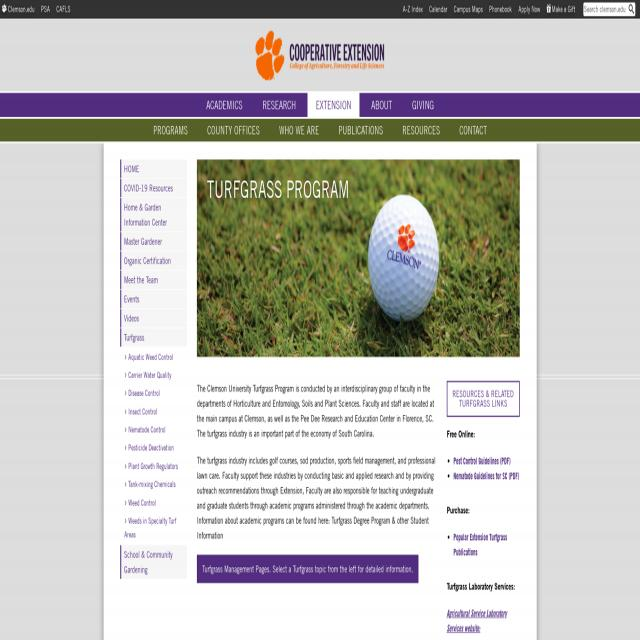button: (253, 31, 387, 80), (447, 381, 519, 417), (120, 198, 188, 231), (120, 545, 188, 578), (122, 511, 187, 542), (199, 119, 268, 141), (120, 178, 188, 198), (120, 270, 188, 290), (120, 308, 188, 328), (331, 119, 391, 141), (120, 251, 188, 270), (120, 328, 188, 347), (198, 93, 251, 117), (308, 93, 360, 117), (271, 119, 327, 141), (120, 160, 188, 178), (120, 232, 188, 250), (120, 290, 188, 308), (254, 93, 304, 117), (394, 119, 448, 141), (122, 420, 187, 438), (122, 438, 187, 456), (145, 119, 196, 141), (122, 384, 187, 401), (122, 402, 187, 419), (122, 457, 187, 474), (122, 475, 187, 492), (122, 494, 187, 511), (122, 348, 187, 364), (122, 366, 187, 382), (451, 119, 495, 141), (363, 93, 401, 117), (404, 93, 442, 117)
field: (582, 3, 636, 16)
